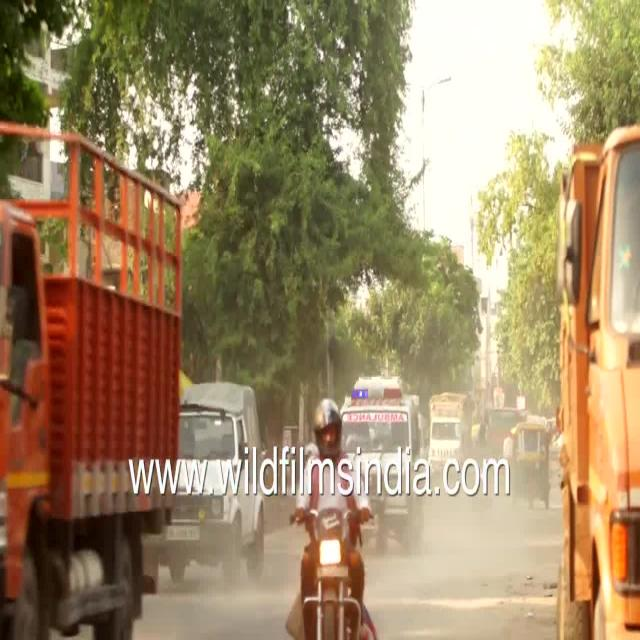ambulance: (331, 370, 430, 468)
